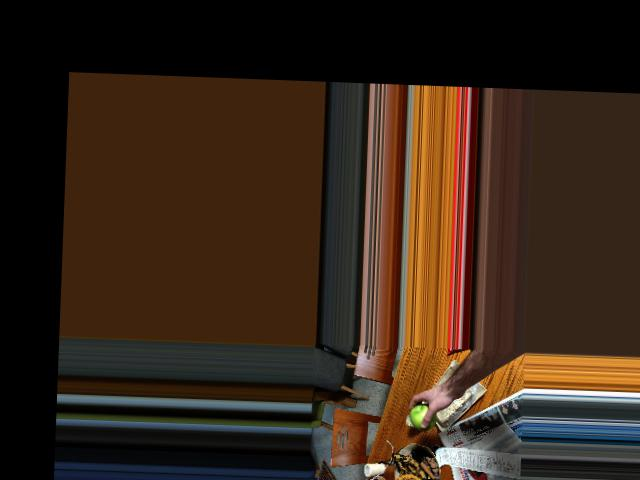apple: (406, 399, 443, 430)
